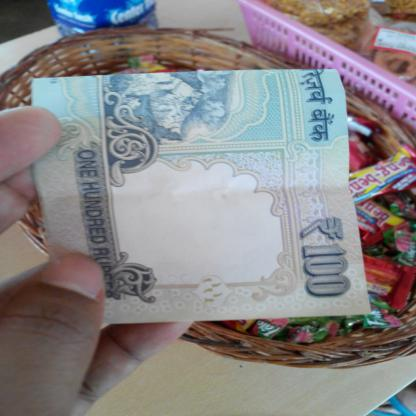Old100Back: (32, 68, 372, 325)
